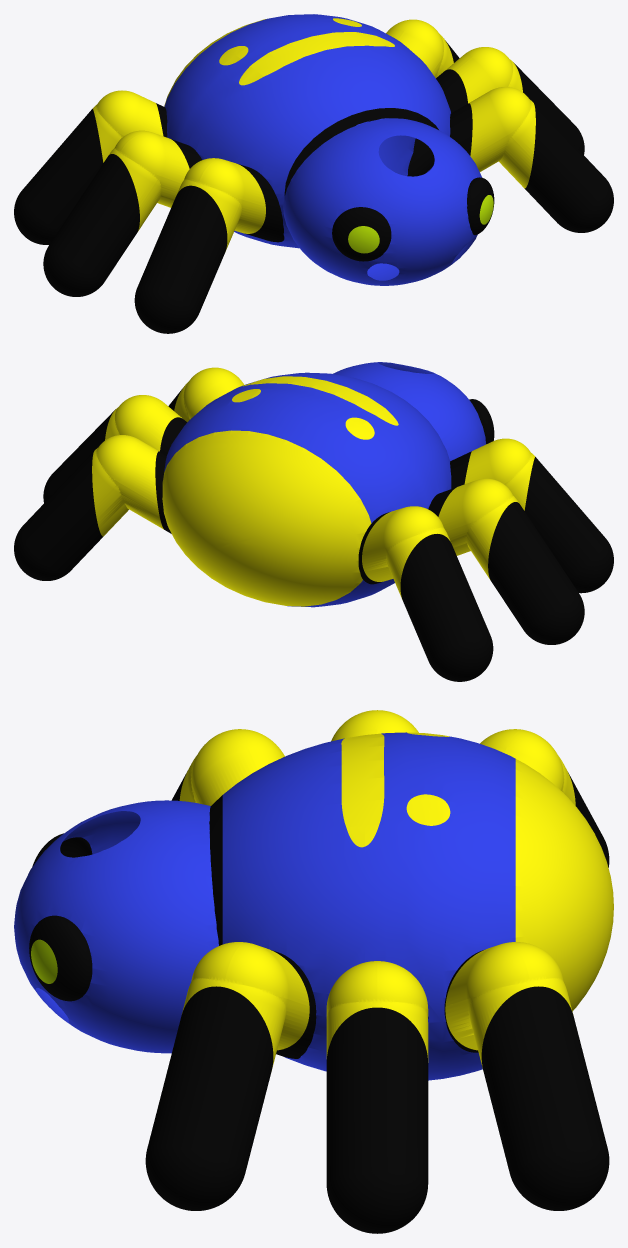
The model's file is BUG HEAD.fbx.
3 renders of one model, top to bottom at view 1: azimuth 30°, elevation 25°; view 2: azimuth 150°, elevation 25°; view 3: azimuth 270°, elevation 25°, orthographic. The views are drawn at different scales.
Parts seen in each view (by area): view 1: Object_6.001, Object_6.002; view 2: Object_6.001, Object_6.002; view 3: Object_6.001, Object_6.002.
Boxes of the visible parts, box(x1,y1,x2,y2) form: Object_6.001: box(14, 14, 613, 333); Object_6.002: box(283, 118, 494, 285); Object_6.001: box(14, 367, 613, 681); Object_6.002: box(333, 362, 494, 461); Object_6.001: box(145, 710, 613, 1233); Object_6.002: box(14, 800, 218, 1053).
Bounding box in the file's own units: 159 × 56.65 × 104.
